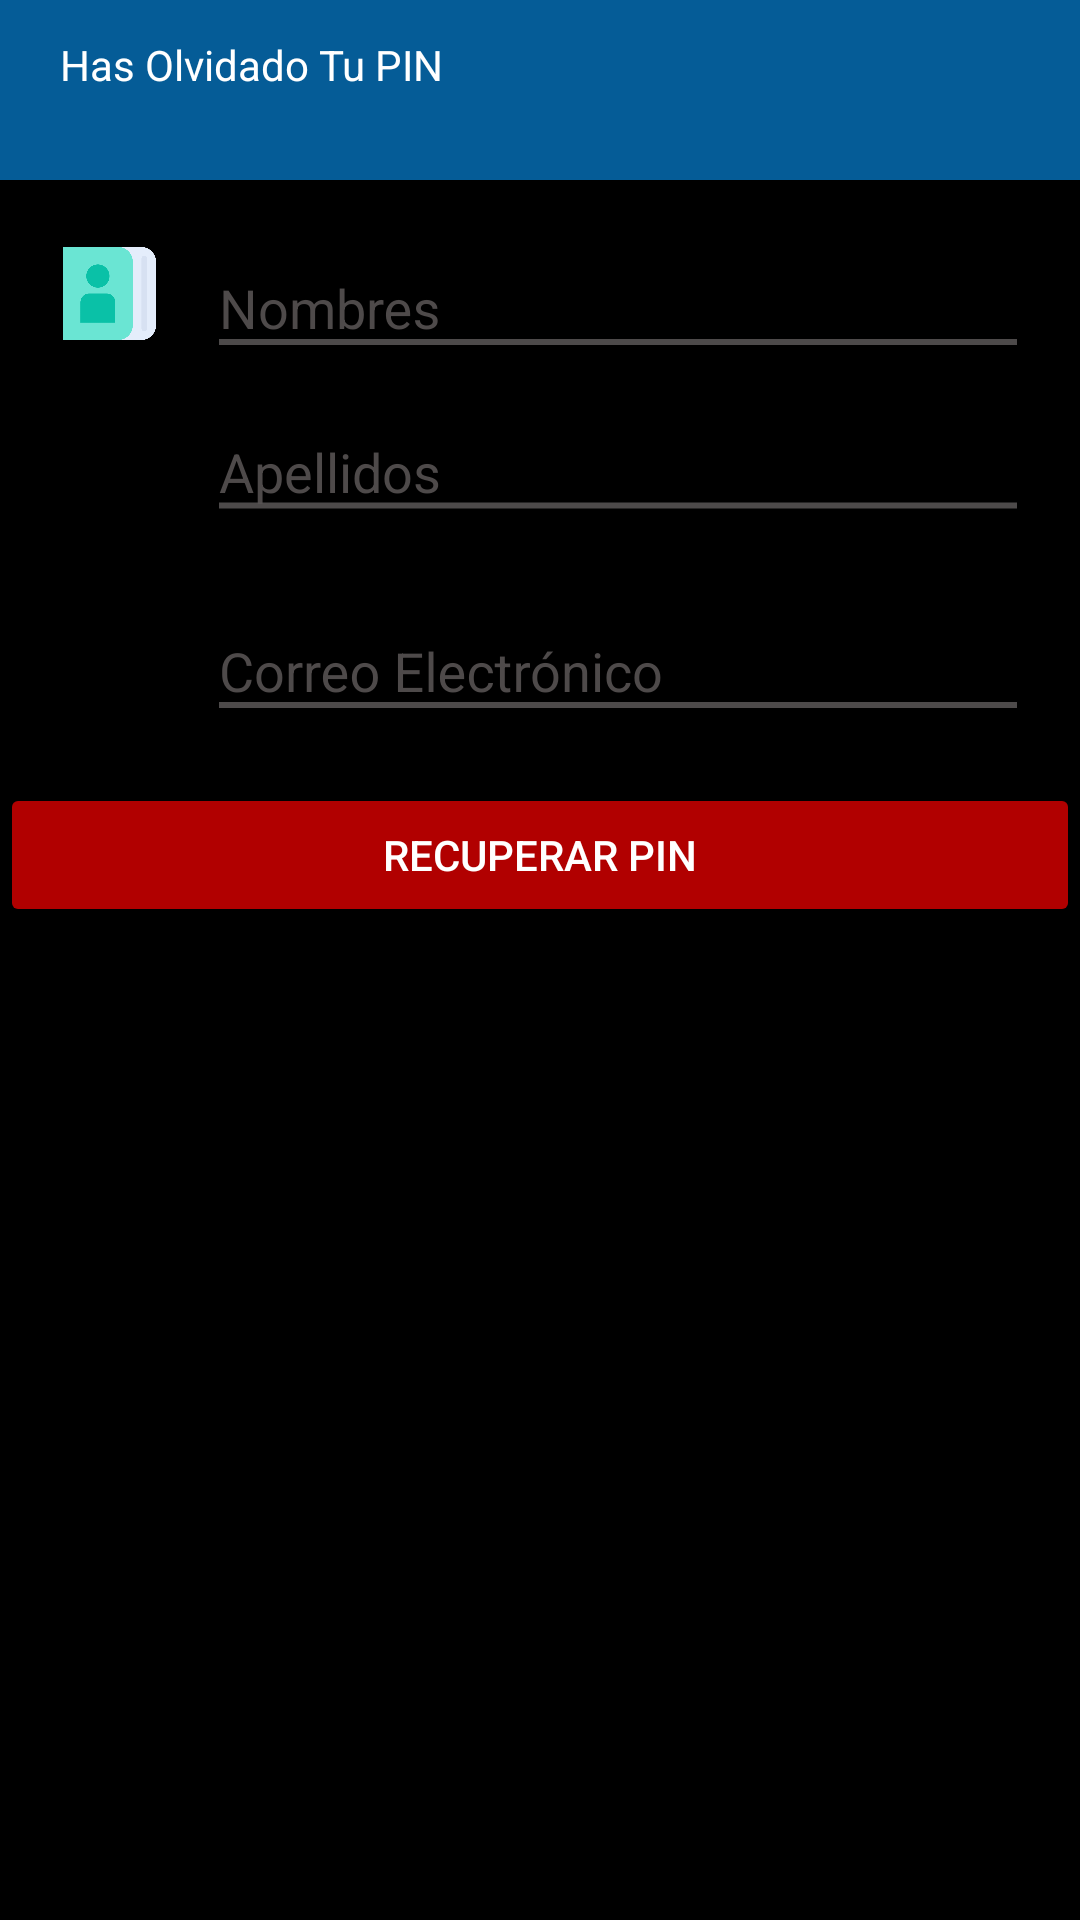

Named icons in this screenshot (1080 x 1920) and their centers, (x=x, y=y):
contacto: (x=109, y=293)
